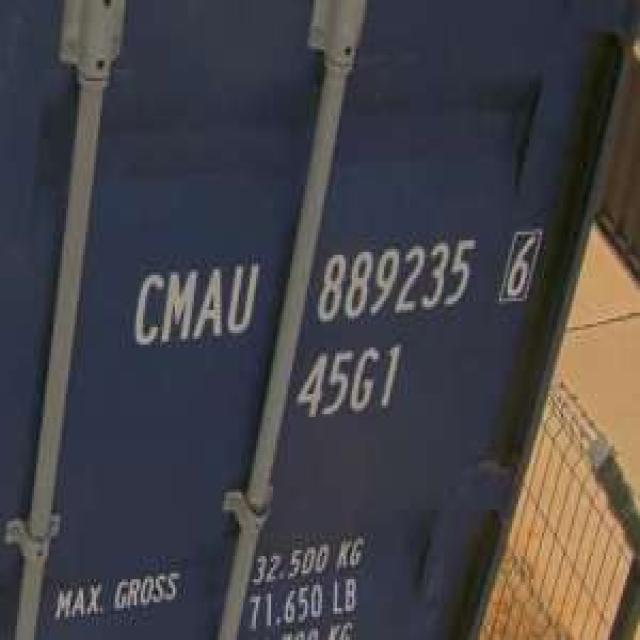dv: (494, 222, 546, 315)
owner: (128, 255, 262, 356)
serial: (316, 233, 479, 330)
size: (286, 340, 410, 426)
